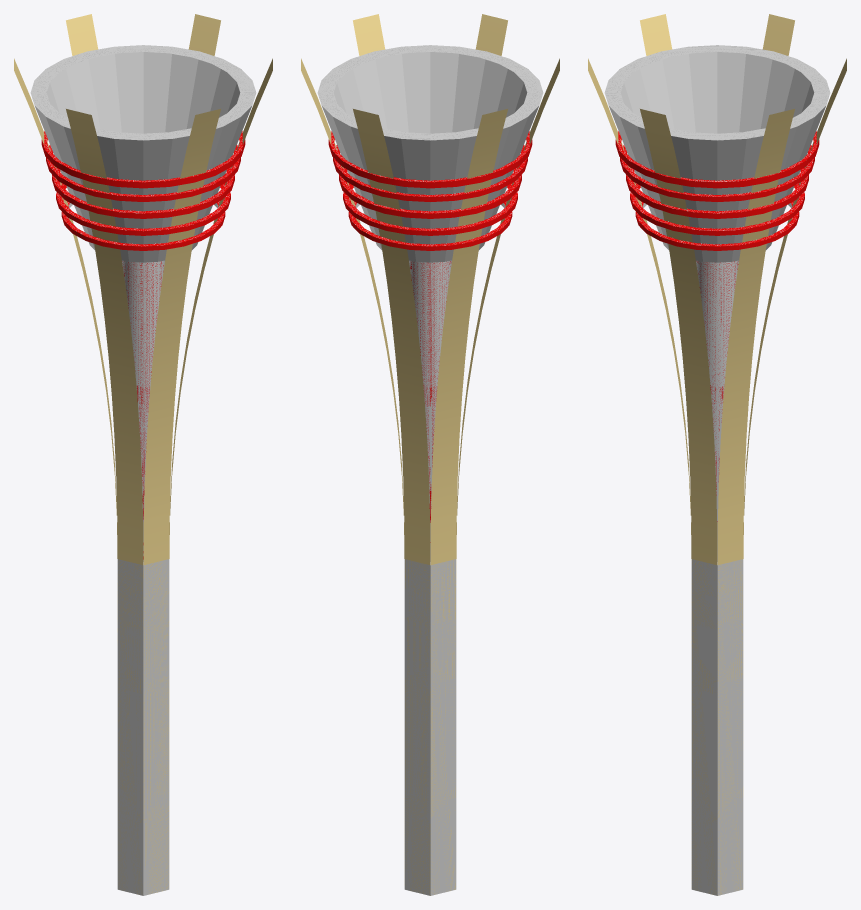
The model's file is torch_holder.fbx.
3 views of the same model, side by side, from view 1: azimuth 30°, elevation 25°; view 2: azimuth 150°, elevation 25°; view 3: azimuth 270°, elevation 25° (orthographic).
Parts seen in each view (by area): view 1: ID82, ID10, ID32, ID38, ID24, ID74, ID126, ID114, ID120, ID108, ID96, ID44 (+3 smaller); view 2: ID82, ID10, ID44, ID50, ID24, ID74, ID126, ID114, ID120, ID108, ID96, ID38 (+3 smaller); view 3: ID82, ID10, ID56, ID62, ID24, ID74, ID126, ID114, ID120, ID108, ID96, ID32 (+3 smaller).
Part boxes in pixels (left/top/right/bottom): ID82: left=35, top=52, right=251, bottom=262; ID10: left=117, top=559, right=169, bottom=895; ID32: left=143, top=109, right=220, bottom=564; ID38: left=66, top=109, right=143, bottom=564; ID24: left=122, top=260, right=164, bottom=561; ID74: left=30, top=45, right=256, bottom=140; ID126: left=41, top=131, right=245, bottom=188; ID114: left=52, top=167, right=234, bottom=218; ID120: left=46, top=145, right=240, bottom=201; ID108: left=56, top=183, right=230, bottom=235; ID96: left=61, top=201, right=225, bottom=250; ID44: left=14, top=58, right=117, bottom=534; ID82: left=322, top=52, right=538, bottom=262; ID10: left=404, top=559, right=456, bottom=895; ID44: left=430, top=109, right=507, bottom=564; ID50: left=353, top=109, right=430, bottom=564; ID24: left=409, top=260, right=451, bottom=561; ID74: left=317, top=45, right=543, bottom=140; ID126: left=328, top=131, right=532, bottom=188; ID114: left=339, top=167, right=521, bottom=218; ID120: left=333, top=145, right=527, bottom=201; ID108: left=343, top=183, right=517, bottom=235; ID96: left=348, top=201, right=512, bottom=250; ID38: left=456, top=58, right=559, bottom=534; ID82: left=609, top=52, right=825, bottom=262; ID10: left=691, top=559, right=743, bottom=895; ID56: left=640, top=109, right=717, bottom=564; ID62: left=717, top=109, right=794, bottom=564; ID24: left=696, top=260, right=738, bottom=561; ID74: left=604, top=45, right=830, bottom=140; ID126: left=615, top=131, right=819, bottom=188; ID114: left=626, top=167, right=808, bottom=218; ID120: left=620, top=145, right=814, bottom=201; ID108: left=630, top=183, right=804, bottom=235; ID96: left=635, top=201, right=799, bottom=250; ID32: left=588, top=58, right=691, bottom=534.
Size of the model in its own units: 212 by 229 by 800.
